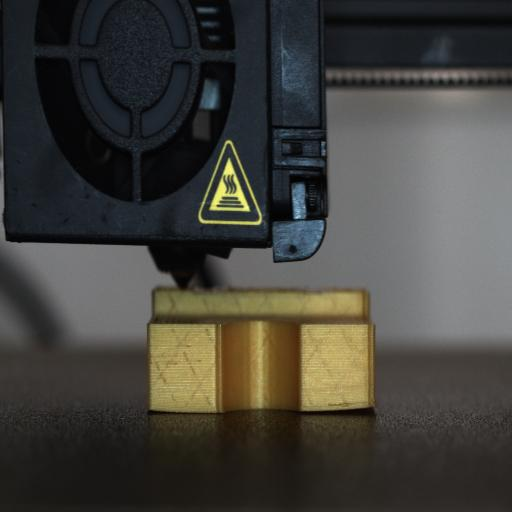warp: (329, 399, 381, 417)
